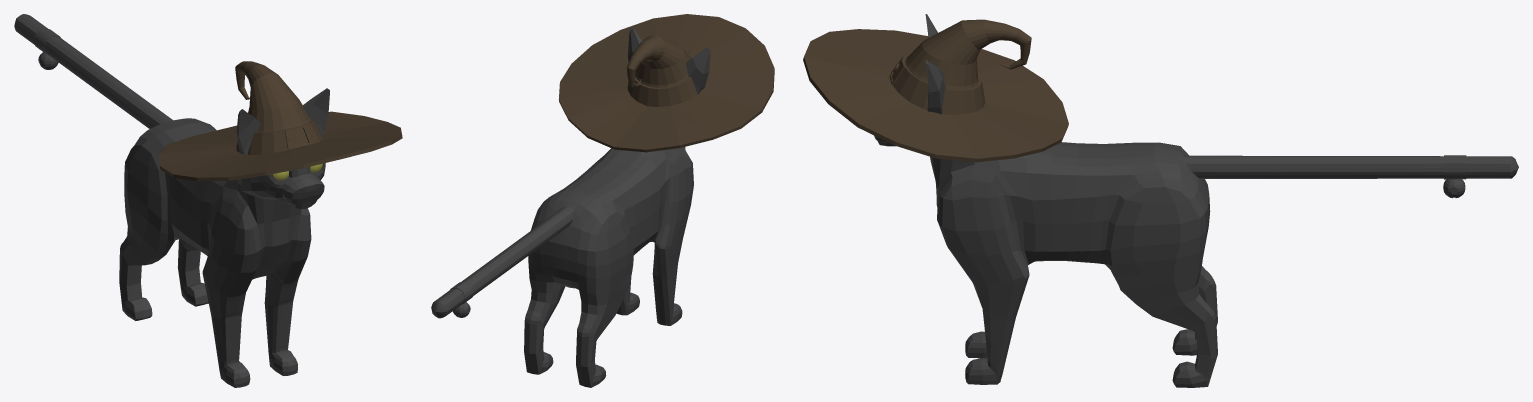
Rendered from Astridmodell_1.fbx.
The picture shows the model from 3 angles, left to right: view 1: azimuth 30°, elevation 25°; view 2: azimuth 150°, elevation 25°; view 3: azimuth 270°, elevation 25°; orthographic projection. The views are drawn at different scales.
Visible parts, largest first — view 1: kropp_bjällra, hatt; view 2: kropp_bjällra, hatt; view 3: kropp_bjällra, hatt.
Boxes of the visible parts, bbox=[...] form: kropp_bjällra: bbox=[14, 14, 329, 387]; hatt: bbox=[158, 61, 402, 181]; kropp_bjällra: bbox=[431, 28, 710, 387]; hatt: bbox=[558, 14, 774, 152]; kropp_bjällra: bbox=[874, 14, 1518, 387]; hatt: bbox=[803, 19, 1068, 162].
Size of the model in its own units: 2.24 by 3.09 by 5.79.
